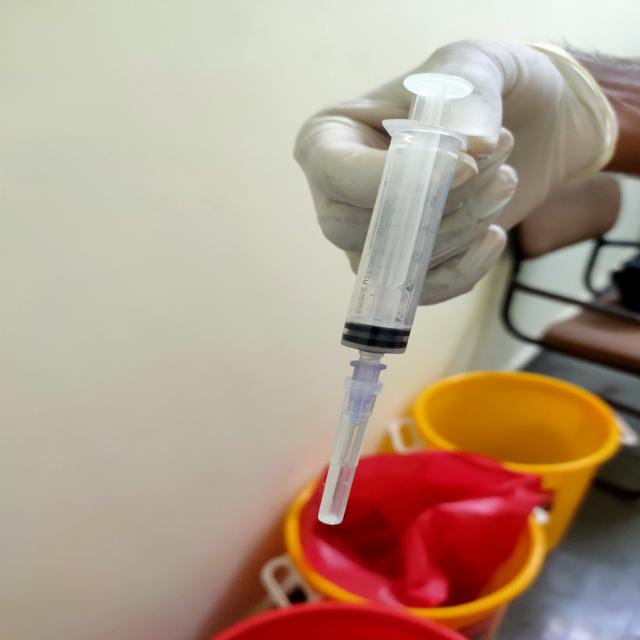B3: (316, 45, 481, 526), (344, 72, 474, 357), (318, 346, 406, 526)
